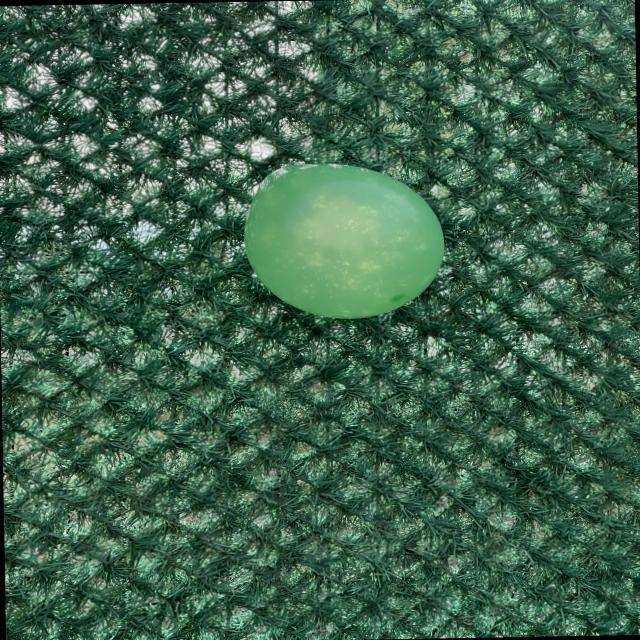balloon: (245, 164, 443, 318)
